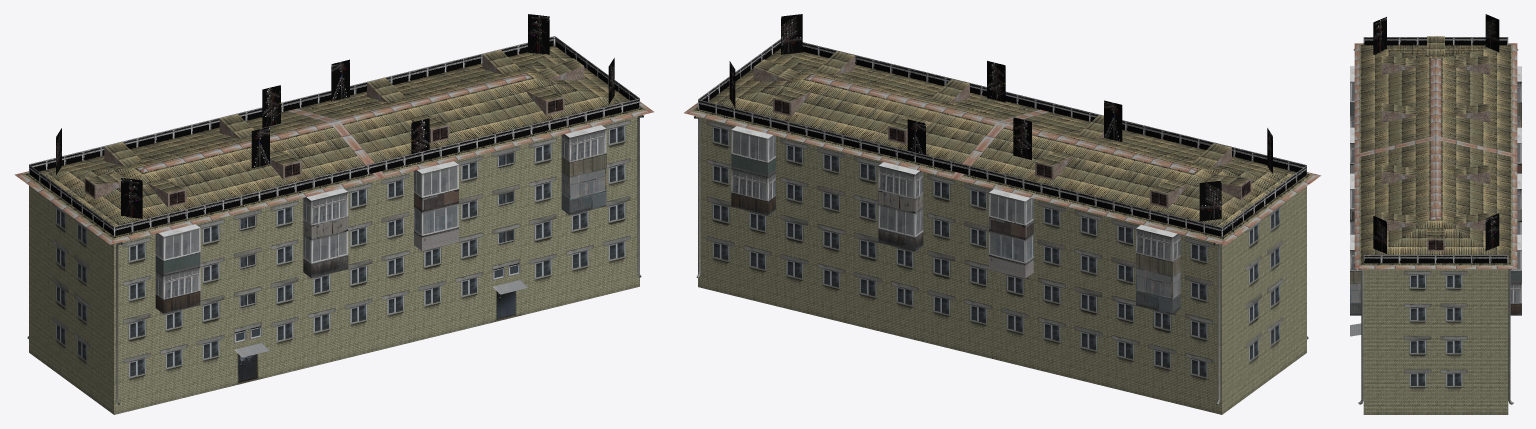
The model's file is rus_build_4et_01a.fbx.
The picture shows the model from 3 angles, left to right: view 1: azimuth 30°, elevation 25°; view 2: azimuth 150°, elevation 25°; view 3: azimuth 270°, elevation 25°; orthographic projection. The views are drawn at different scales.
Parts seen in each view (by area): view 1: Regroup13, rus_build_dec_01; view 2: Regroup13, rus_build_dec_01; view 3: Regroup13, rus_build_dec_01.
Part boxes in pixels (<box>): Regroup13: <box>14,45,653,414</box>; rus_build_dec_01: <box>29,14,639,236</box>; Regroup13: <box>684,48,1321,414</box>; rus_build_dec_01: <box>698,14,1306,236</box>; Regroup13: <box>1350,36,1521,414</box>; rus_build_dec_01: <box>1363,14,1508,263</box>.
Size of the model in its own units: 4130 by 1645 by 1330.
